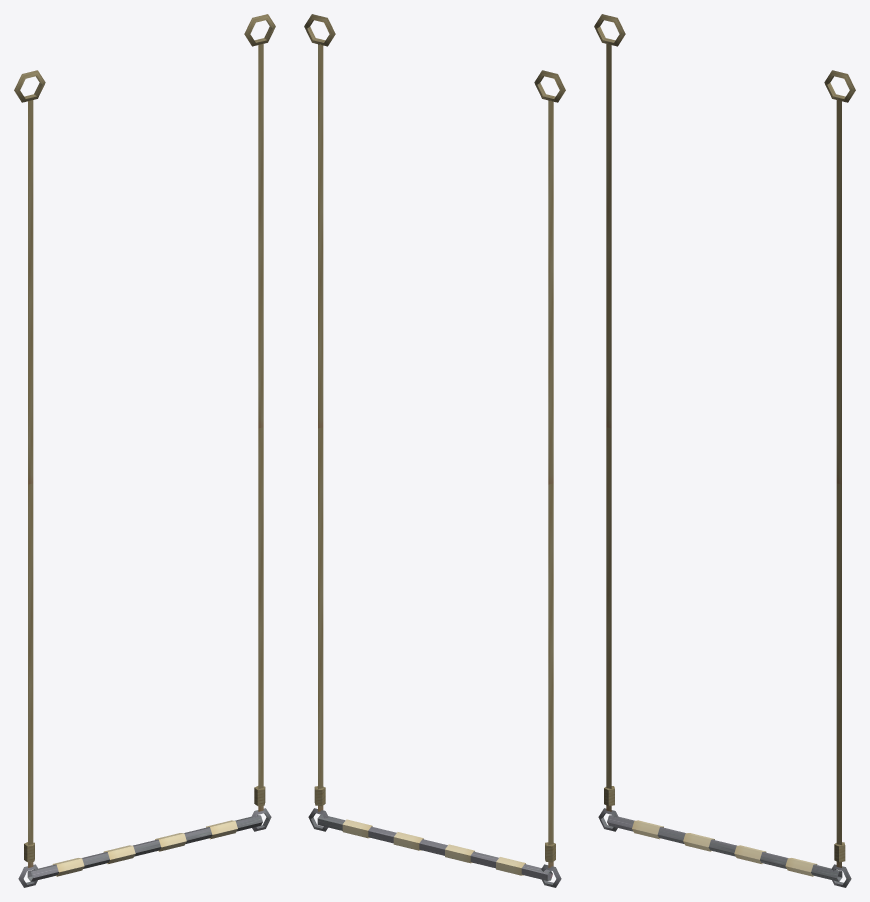
Rendered from trapeze.fbx.
3 renders of one model, left to right at view 1: azimuth 30°, elevation 25°; view 2: azimuth 150°, elevation 25°; view 3: azimuth 330°, elevation 25°, orthographic.
Visible parts, largest first — view 1: trapeze; view 2: trapeze; view 3: trapeze.
Boxes of the visible parts, bbox=[...] form: trapeze: bbox=[14, 14, 275, 887]; trapeze: bbox=[304, 14, 565, 887]; trapeze: bbox=[594, 14, 855, 887].
Size of the model in its own units: 1.02 by 3.04 by 0.0434.
Materials: 1 (1 with a texture image).
